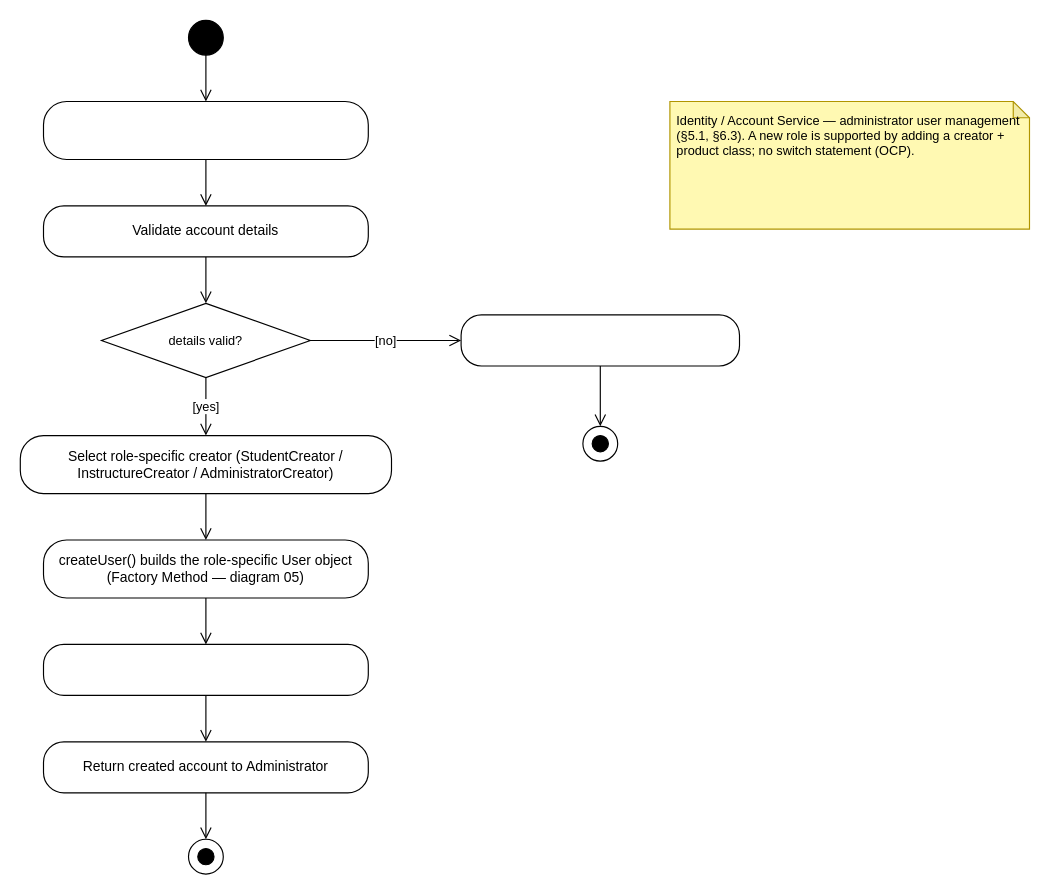
This 1050x894 diagram has some shape labels left out. The shapes that lost their labels are listed below. From the top down, each one's centre as x and y in pixels, then its label:
(205,130): Administrator enters account details (role, name, email)
(600,340): Reject with validation error
(205,669): registerUser() saves the user via UserRepository
